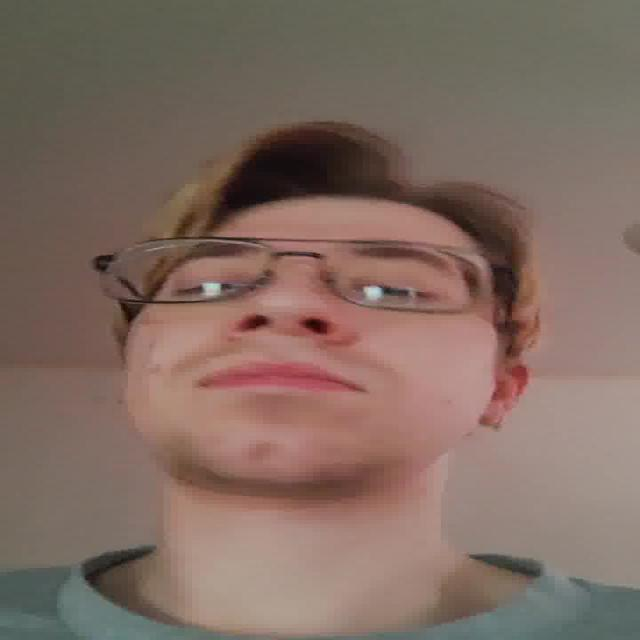earlobe: (481, 406, 512, 429)
eye: (170, 273, 257, 300), (355, 279, 446, 304)
nose: (227, 320, 355, 370)
wholeear: (478, 358, 535, 428)
